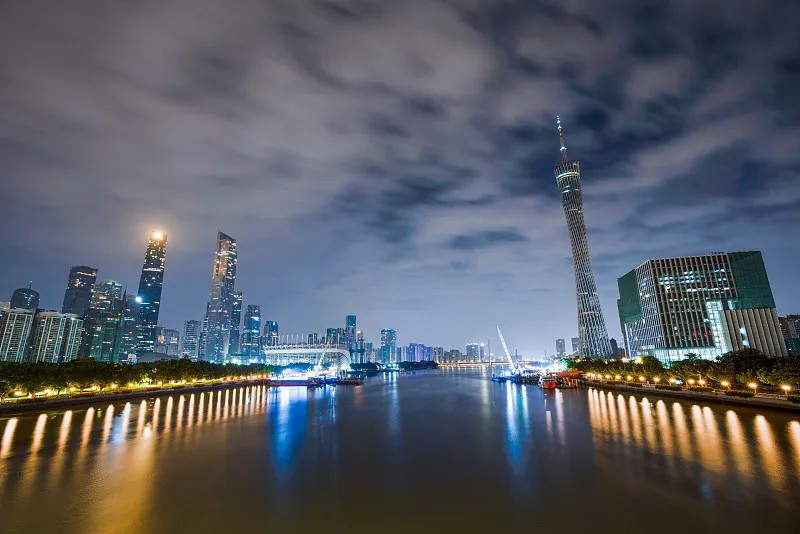Canton: (551, 113, 613, 358)
